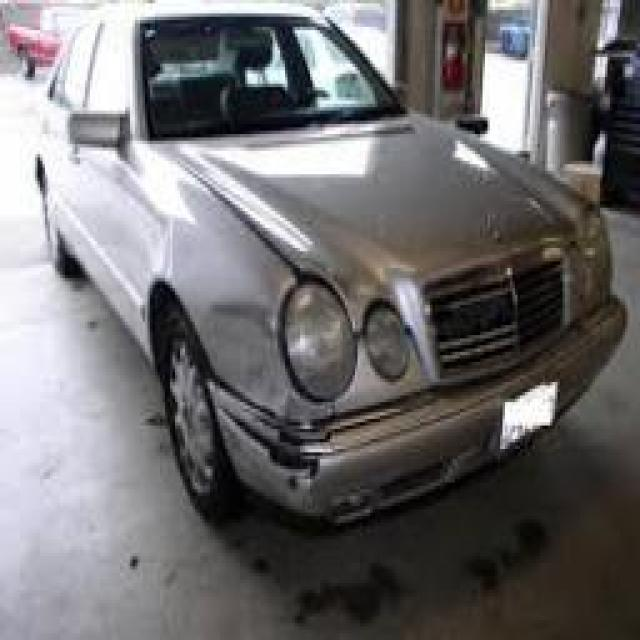Bonnet: (206, 184, 411, 332)
Bumper: (205, 363, 444, 518)
Fender: (193, 204, 335, 419)
